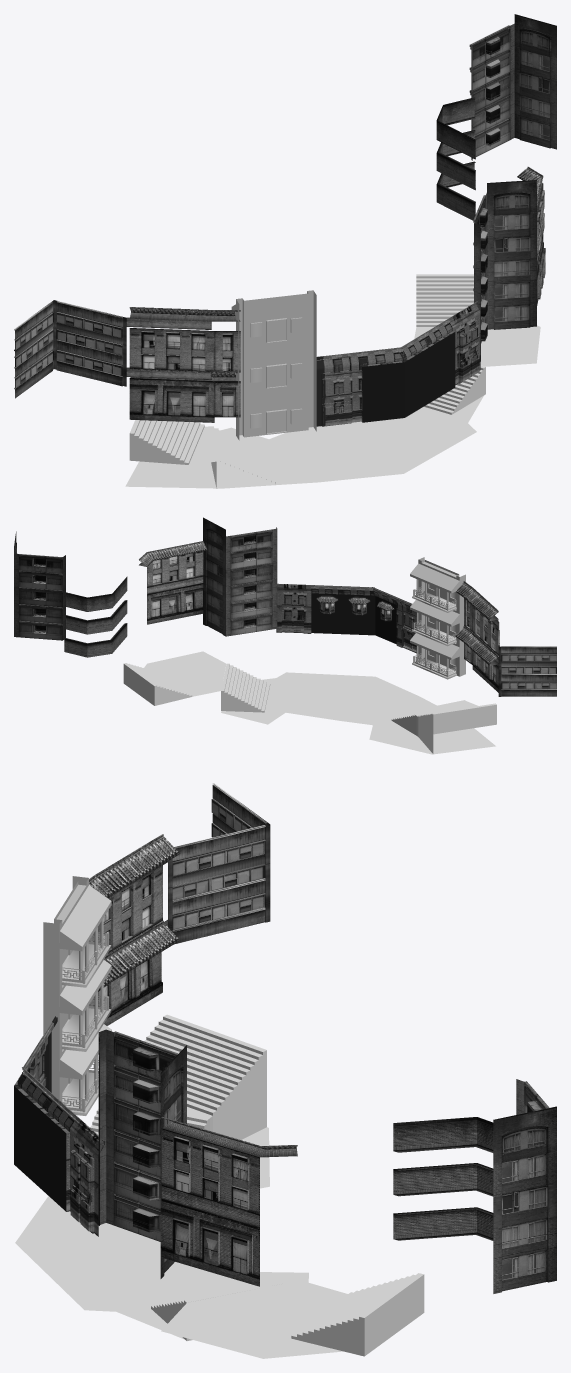
The model's file is chinatown_block_3.fbx.
The picture shows the model from 3 angles, top to bottom: view 1: azimuth 30°, elevation 25°; view 2: azimuth 150°, elevation 25°; view 3: azimuth 270°, elevation 25°; orthographic projection. The views are drawn at different scales.
Parts seen in each view (by area): view 1: Plane302, chinatown_building_009, chinatown_building_005, chinatown_building_8, Plane287, alley_stairs_1, Plane173, Plane260, Plane258, Plane259, Plane270, Plane271 (+11 smaller); view 2: Plane302, chinatown_building_005, chinatown_building_009, Plane161, chinatown_building_8, Plane173, Plane287, alley_stairs_1, Plane307, Plane189, Plane260, alley_stairs_3 (+9 smaller); view 3: chinatown_building_005, Plane302, Plane161, chinatown_building_009, Plane287, alley_stairs_1, Plane307, Object, alley_stairs_2, Plane173, Plane260, chinatown_building_8 (+9 smaller).
Part boxes in pixels (x1,y1,x2,y2): Plane302: (125,395,483,488); chinatown_building_009: (469,14,556,160); chinatown_building_005: (473,180,536,361); chinatown_building_8: (316,333,429,426); Plane287: (14,300,126,398); alley_stairs_1: (129,420,275,488); Plane173: (424,301,480,402); Plane260: (231,290,316,348); Plane258: (236,381,316,440); Plane259: (236,336,316,394); Plane270: (129,328,214,371); Plane271: (129,378,214,417); Plane302: (221,672,495,754); chinatown_building_005: (203,517,277,636); chinatown_building_009: (14,531,65,640); Plane161: (147,551,203,624); chinatown_building_8: (343,586,416,653); Plane173: (276,583,343,634); Plane287: (498,622,556,696); alley_stairs_1: (391,700,496,753); Plane307: (144,651,226,696); Plane189: (64,592,112,657); Plane260: (410,557,465,612); alley_stairs_3: (221,663,270,712); chinatown_building_005: (98,1029,186,1278); Plane302: (15,1127,308,1339); Plane161: (160,1128,259,1286); chinatown_building_009: (493,1079,556,1293); Plane287: (168,783,270,944); alley_stairs_1: (90,1014,266,1139); Plane307: (161,1280,347,1358); Object: (393,1117,476,1240); alley_stairs_2: (291,1273,424,1356); Plane173: (40,1090,104,1236); Plane260: (43,876,111,987); chinatown_building_8: (14,1016,57,1187).
Bounding box in the file's own units: 7716 × 2813 × 4012.
